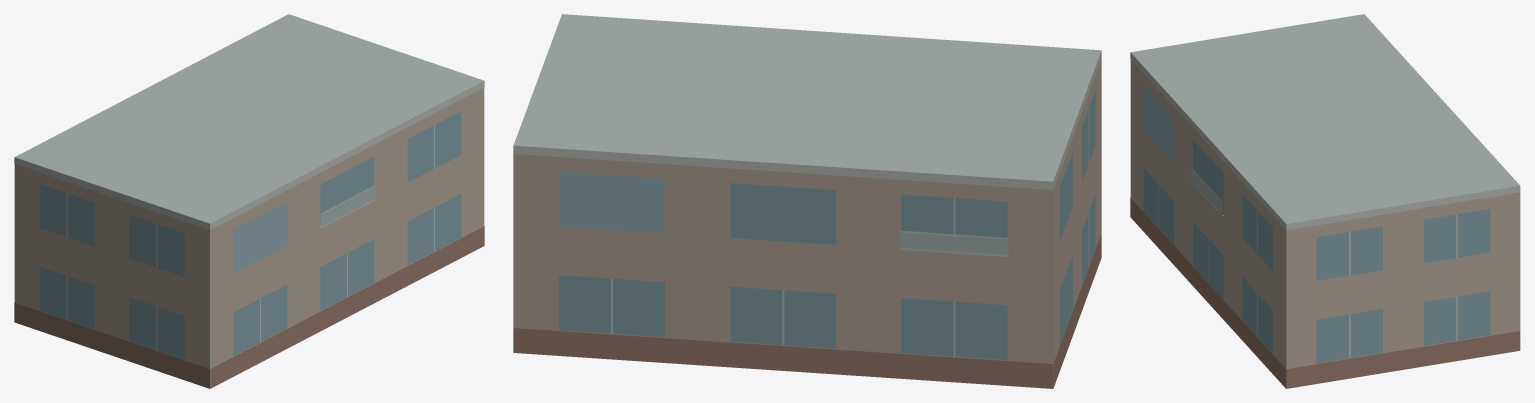
The model's file is survey-upis-32867737.glb.
3 renders of one model, left to right at view 1: azimuth 30°, elevation 25°; view 2: azimuth 150°, elevation 25°; view 3: azimuth 270°, elevation 25°, orthographic. The views are drawn at different scales.
Parts seen in each view (by area): view 1: survey-upis-32867737.tmp; view 2: survey-upis-32867737.tmp; view 3: survey-upis-32867737.tmp.
Boxes of the visible parts, bbox=[...] form: survey-upis-32867737.tmp: bbox=[14, 14, 484, 388]; survey-upis-32867737.tmp: bbox=[513, 14, 1101, 388]; survey-upis-32867737.tmp: bbox=[1130, 14, 1520, 388].
Bounding box in the file's own units: 16.66 × 6.1 × 13.08.
